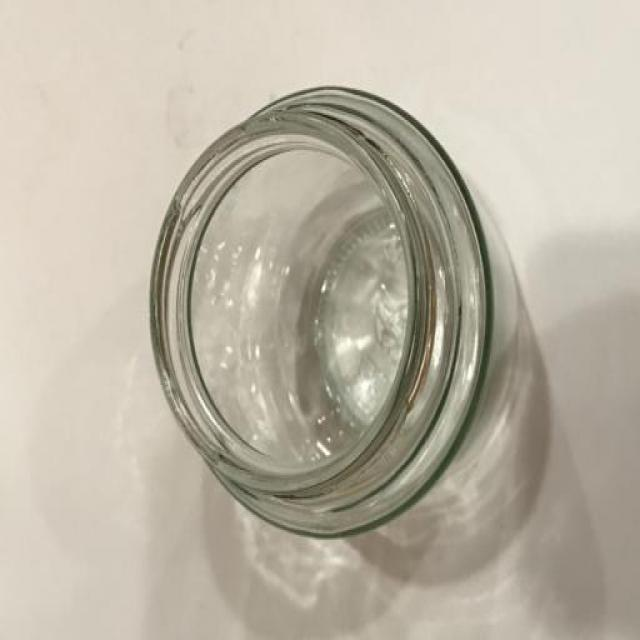glass: (122, 16, 521, 588)
